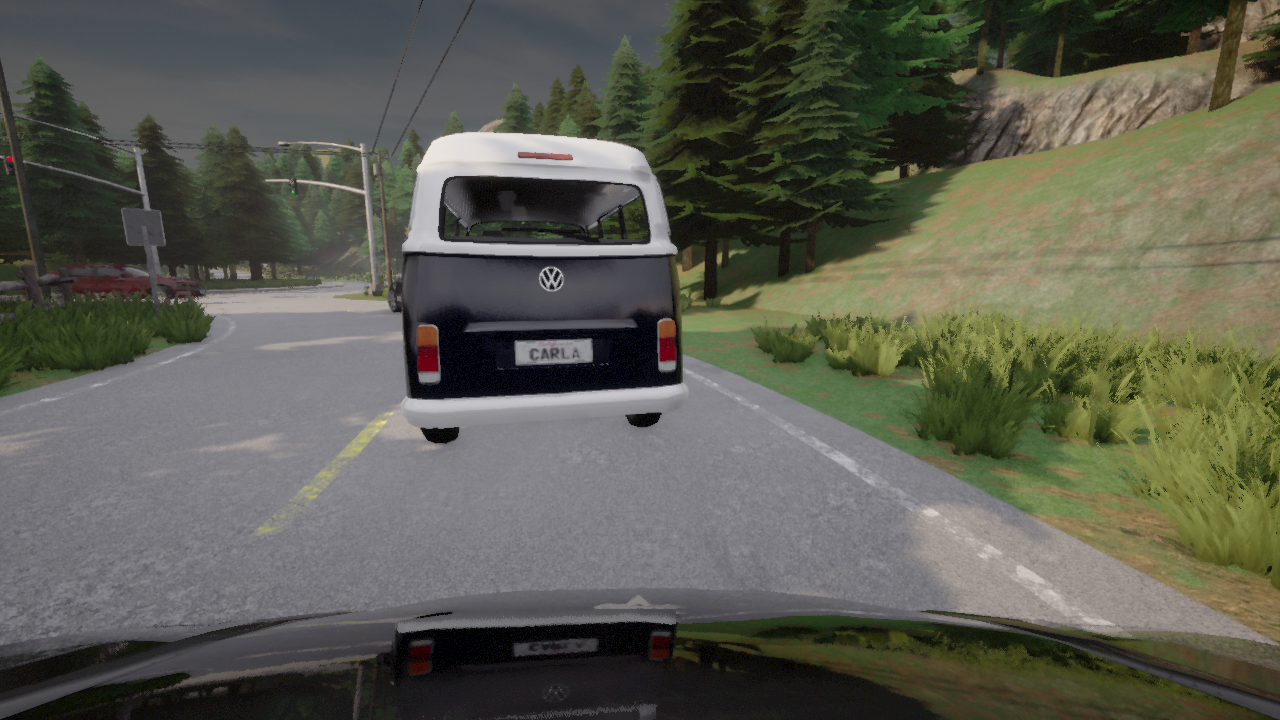cyclist: (0, 588, 1279, 719), (401, 132, 688, 443), (21, 264, 206, 304), (388, 274, 402, 312), (399, 271, 402, 274)
pedestrian: (308, 273, 313, 285)
